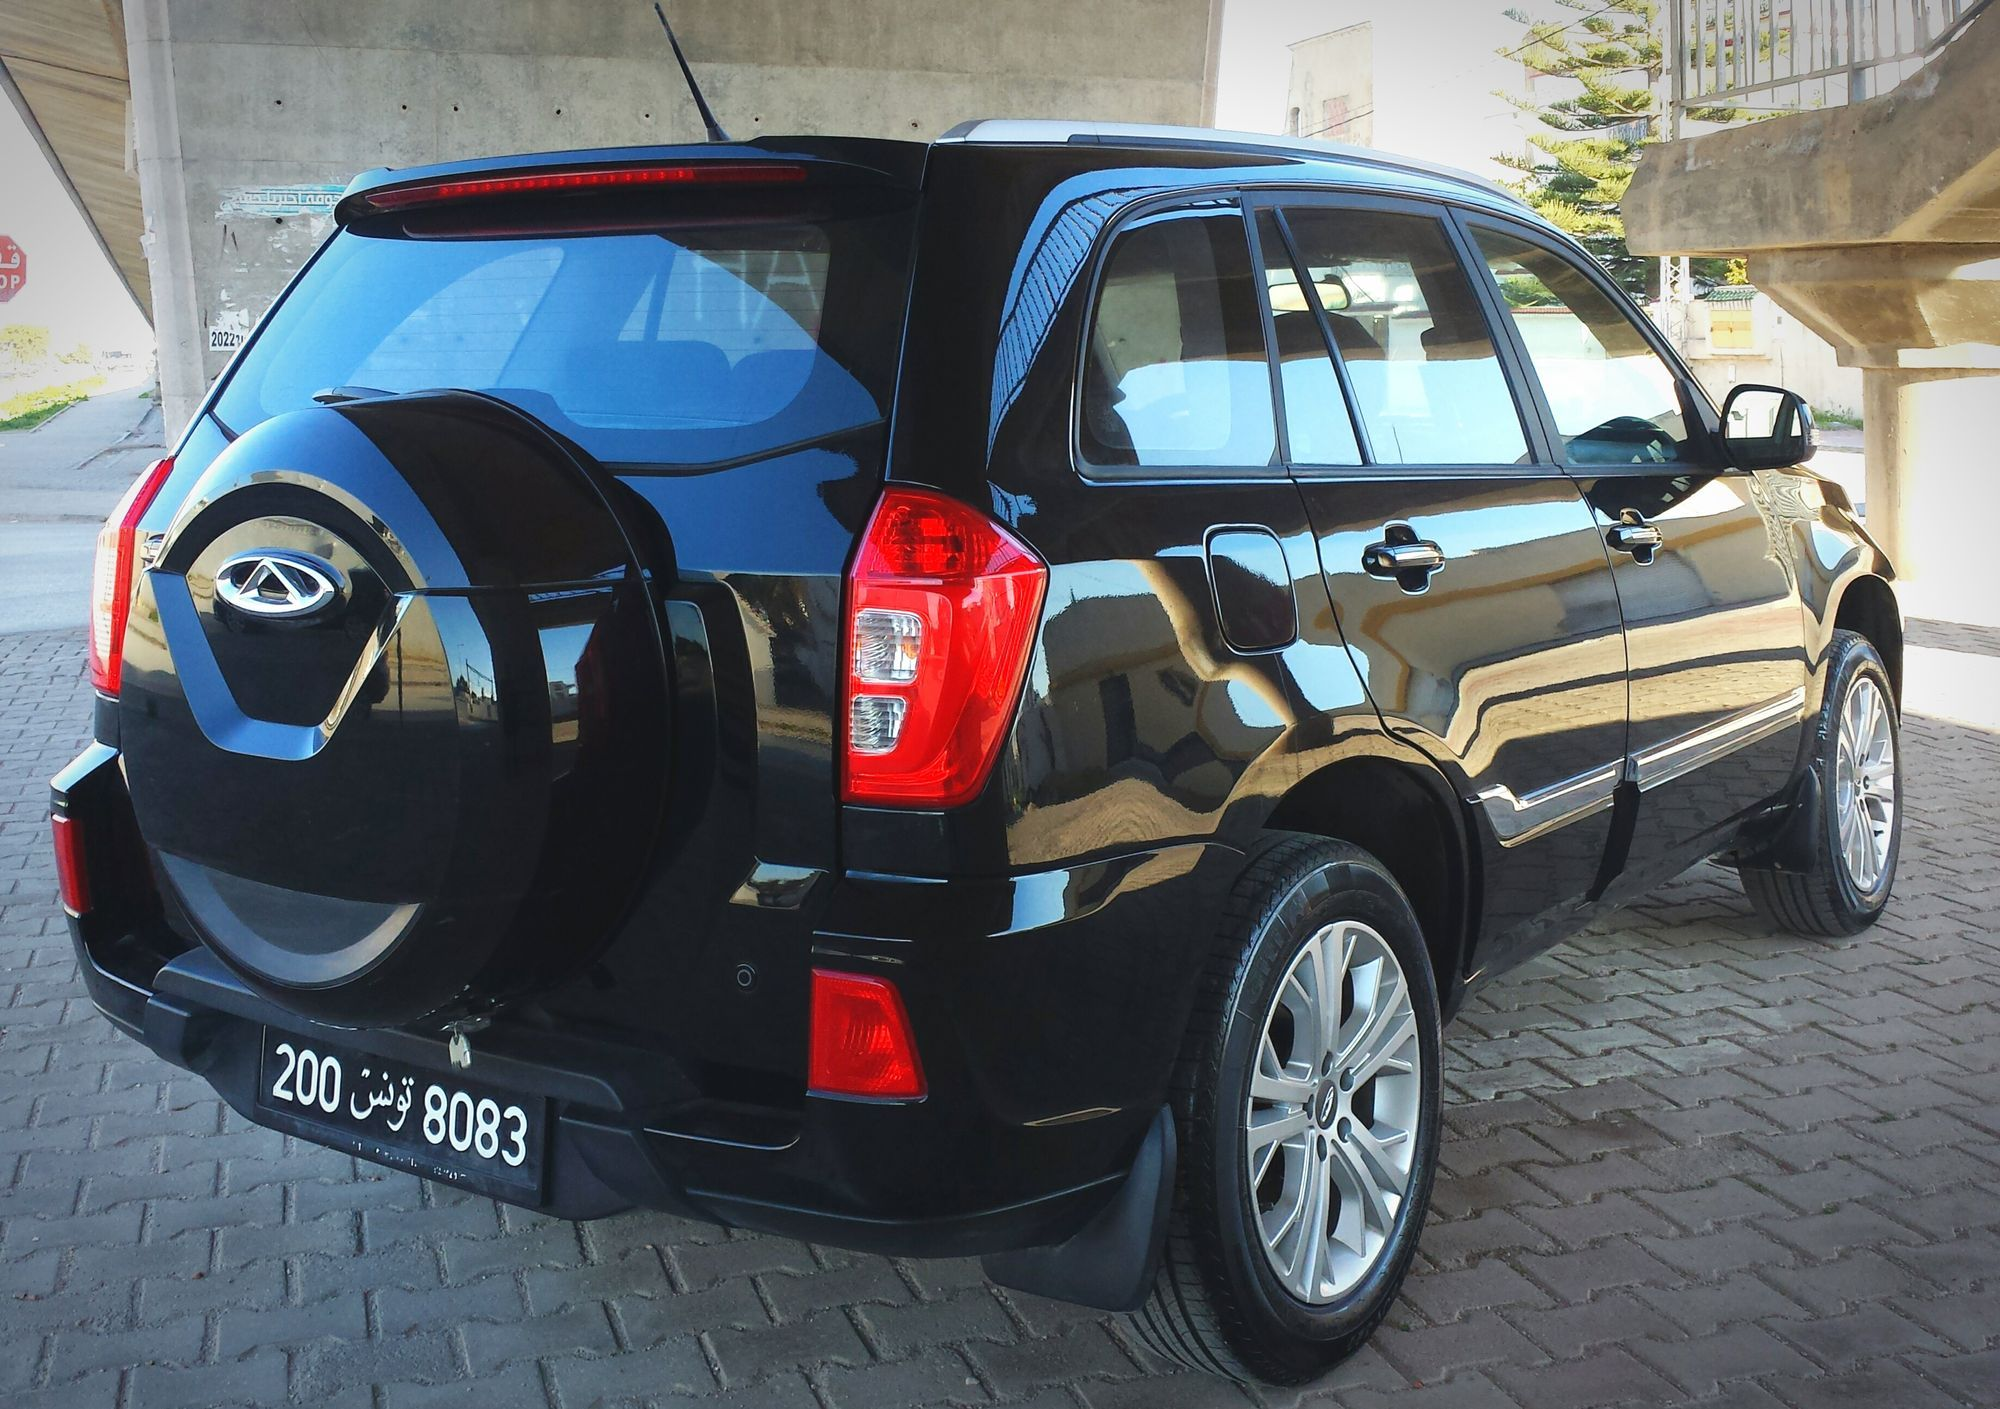LP: (256, 1028, 550, 1188)
